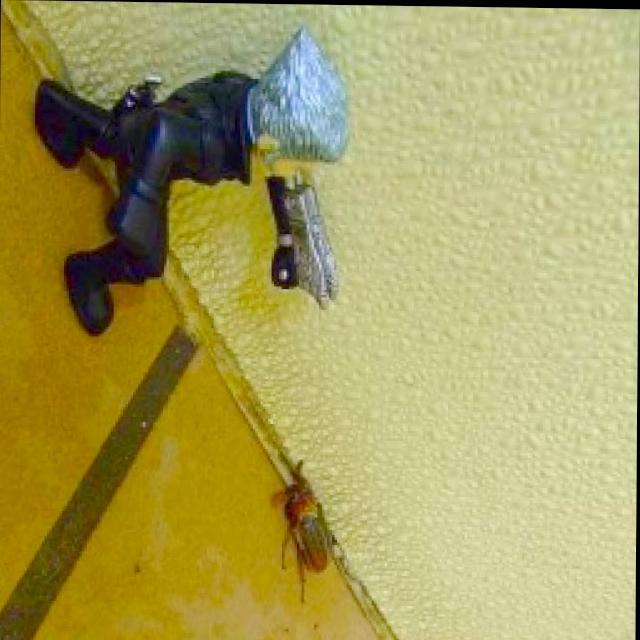cockroach: (256, 455, 347, 599)
